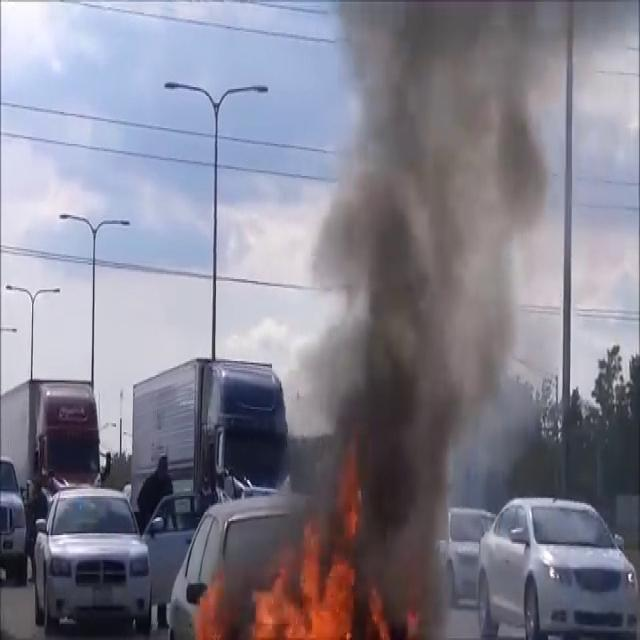Fire: (205, 526, 370, 640)
Smoke: (286, 3, 598, 604)
